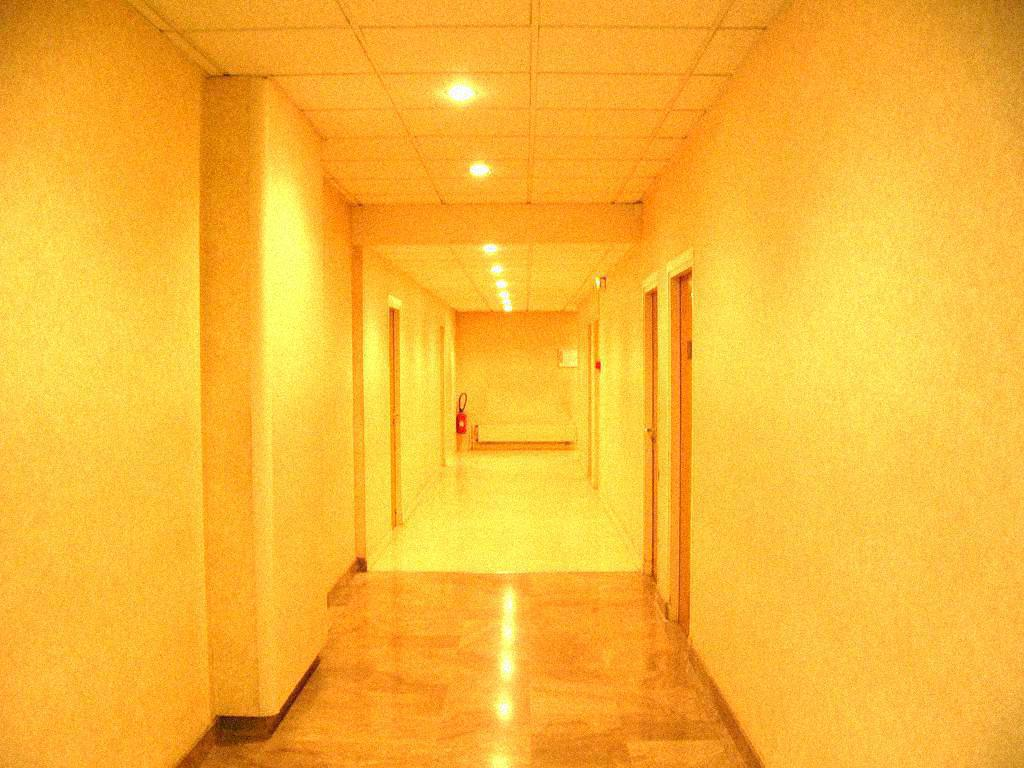Puerta: (636, 270, 666, 585), (665, 267, 688, 639), (387, 298, 403, 532)
